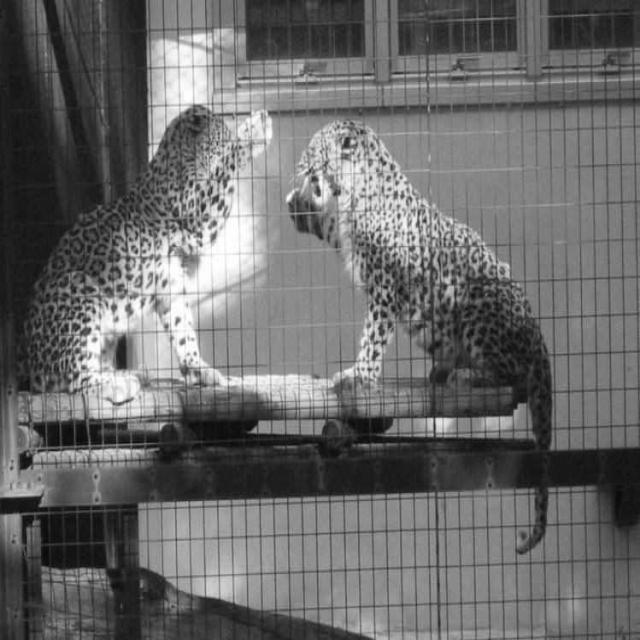Leopard: (284, 115, 554, 555), (23, 101, 273, 402)
